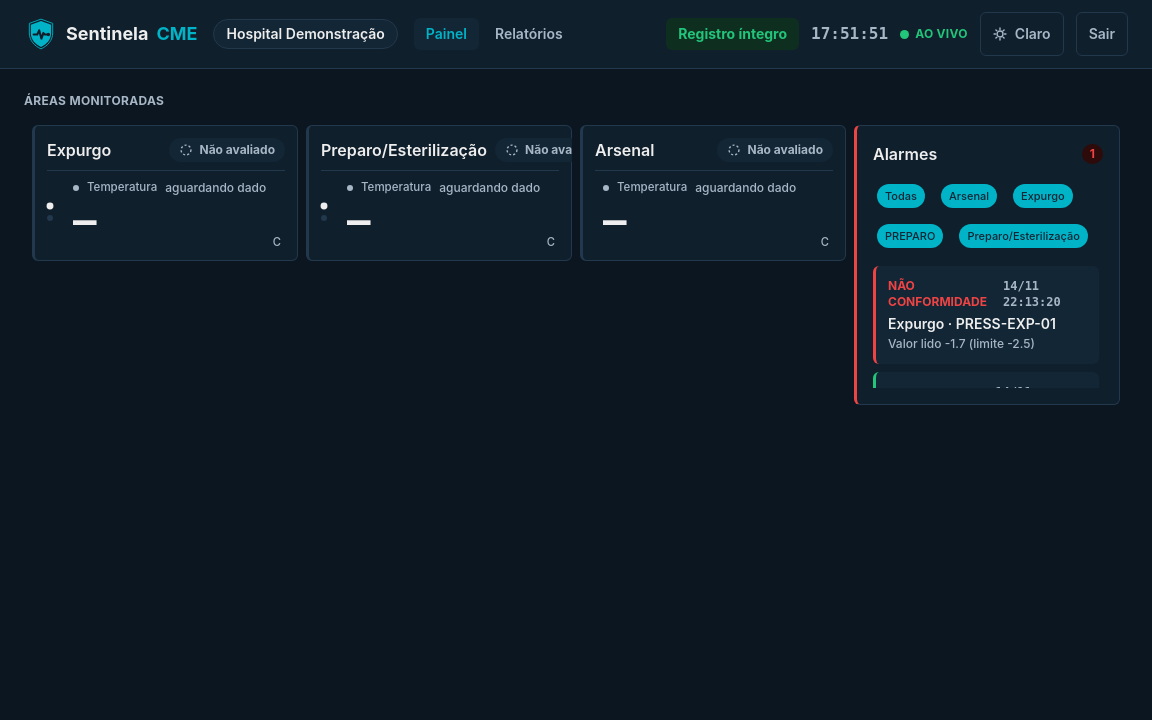
Test: DashboardPage › drill-down (D3) › fechar pelo botão ✕ seta selectedSensorCode=null (drawer some) e restaura o foco no botão de origem
What coordinates should you click on to do the following:
click the 1st button "Temperatura aguardando dado —"
I would click on:
 (175, 212)
Its box is x1=65 y1=175 x2=285 y2=248.
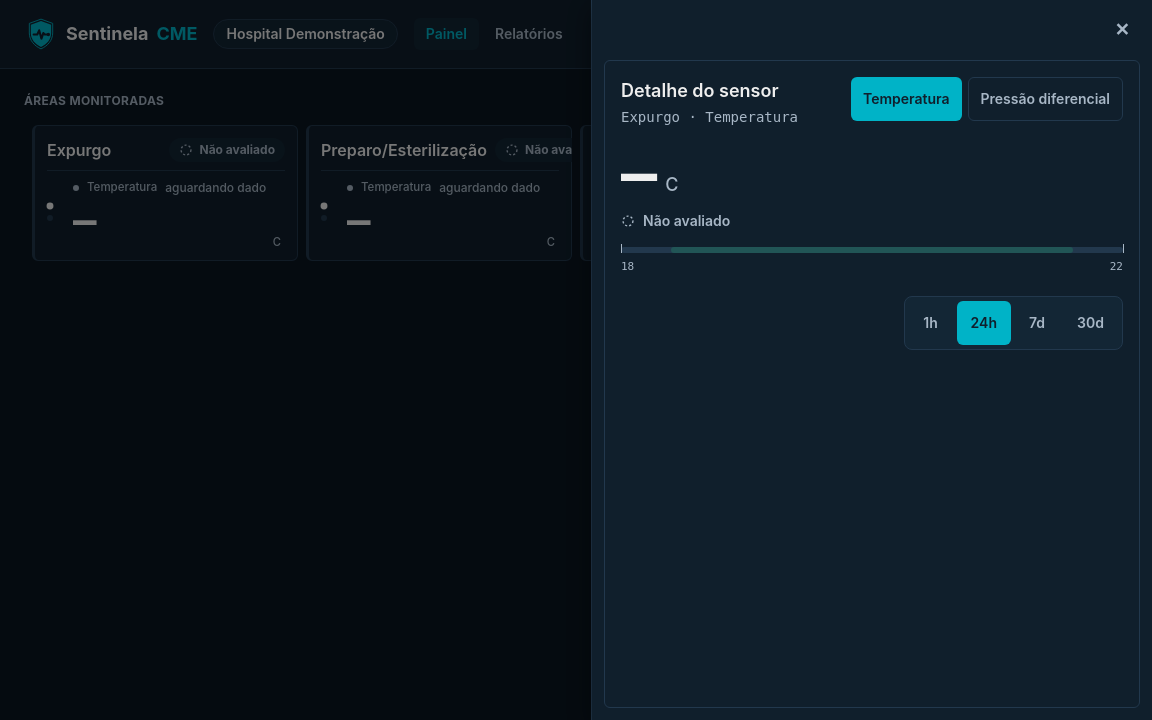
What coordinates should you click on to do the following:
click the button named "Fechar"
I would click on:
 (1122, 30)
Its box is x1=1100 y1=8 x2=1144 y2=52.
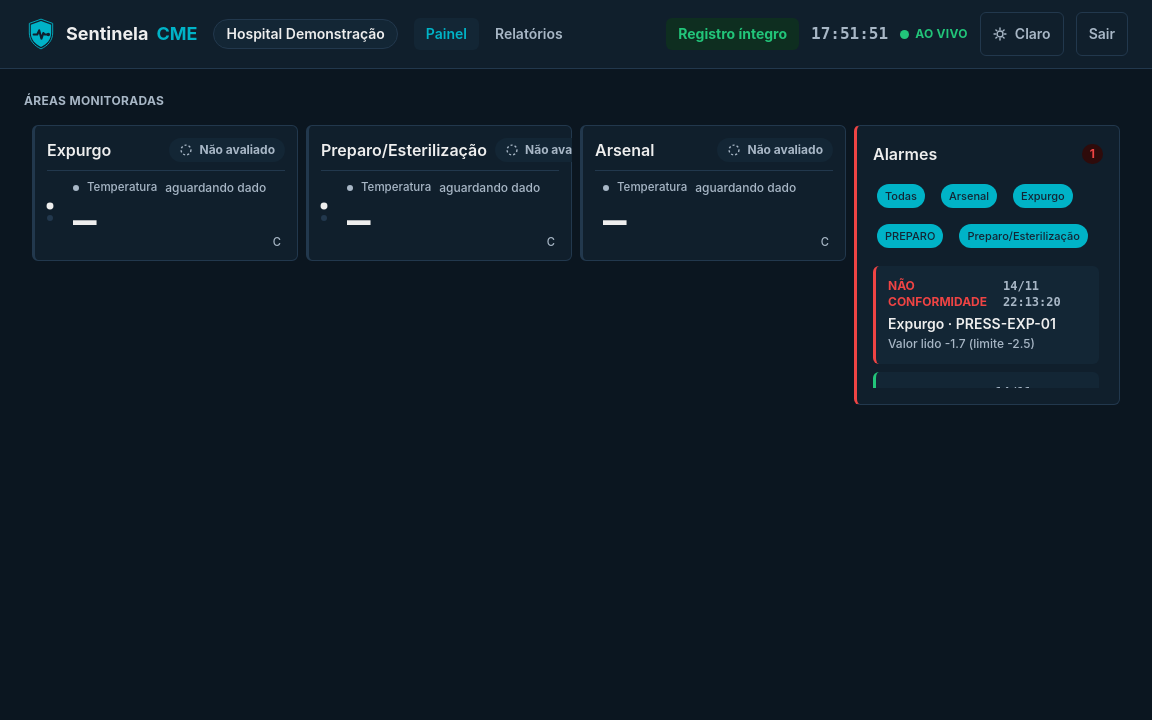
Result: the dialog is gone
